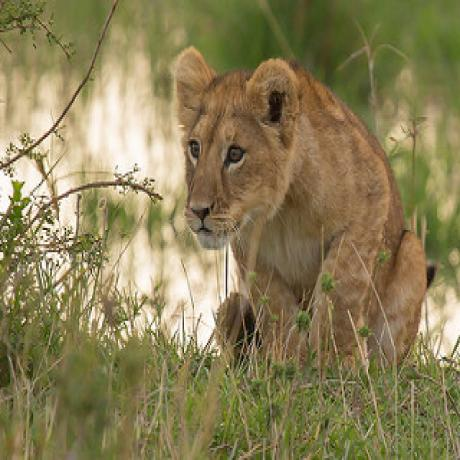Lion: (168, 39, 430, 402)
